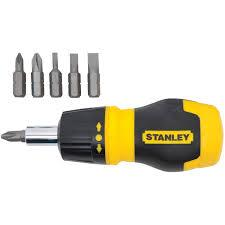screwdriver: (23, 96, 222, 172), (86, 51, 100, 97), (30, 51, 43, 97), (12, 51, 25, 96), (48, 52, 61, 96), (67, 52, 79, 97), (0, 128, 25, 142)
